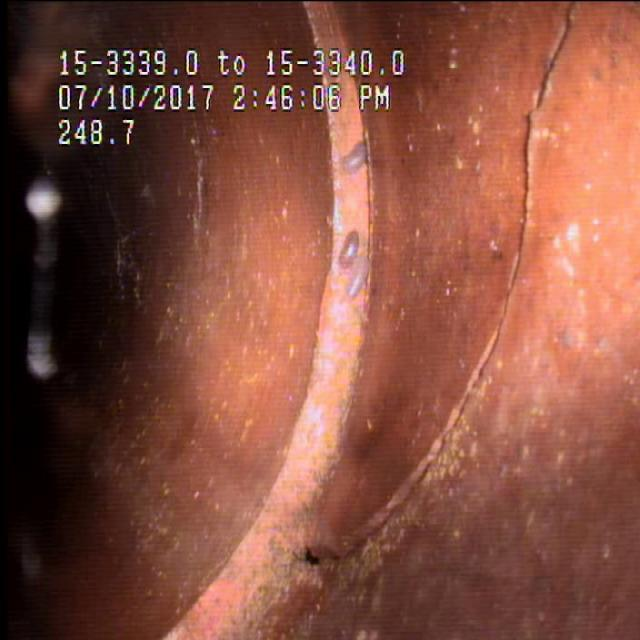Crack: (419, 6, 614, 504)
